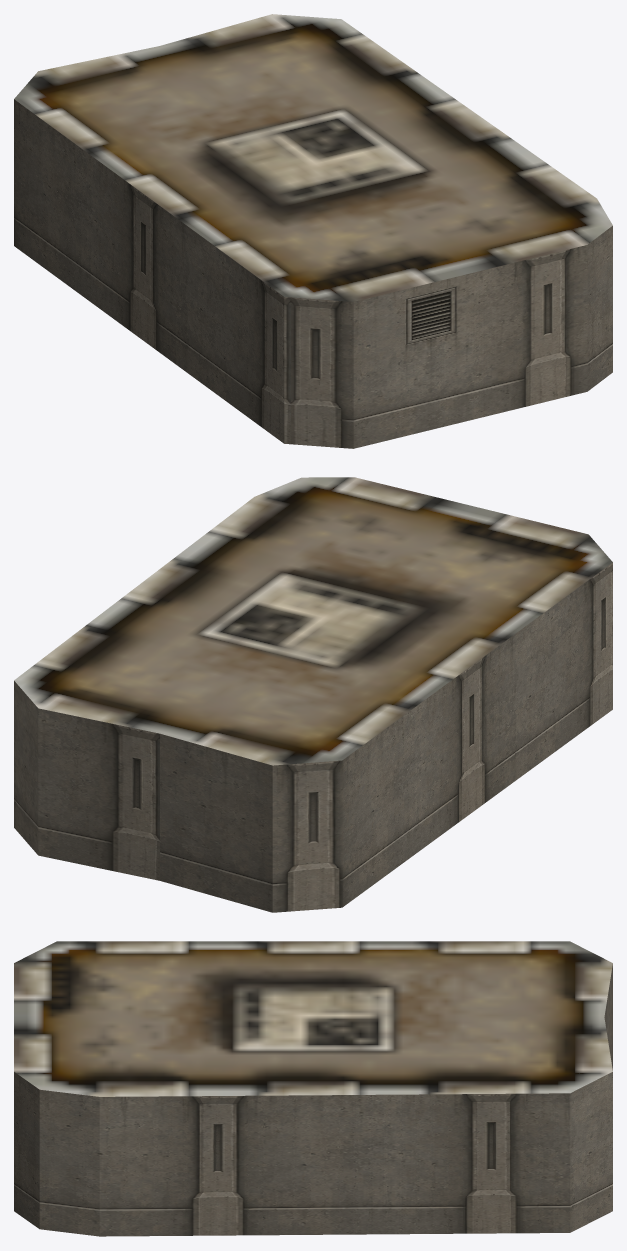
The model's file is building_single_hard_2.glb.
3 renders of one model, top to bottom at view 1: azimuth 30°, elevation 25°; view 2: azimuth 150°, elevation 25°; view 3: azimuth 270°, elevation 25°, orthographic. The views are drawn at different scales.
Visible parts, largest first — view 1: buildings/saxarba/building_single/building_single_hard_2; view 2: buildings/saxarba/building_single/building_single_hard_2; view 3: buildings/saxarba/building_single/building_single_hard_2.
Boxes of the visible parts, left/top/right/bottom form: buildings/saxarba/building_single/building_single_hard_2: left=14, top=14, right=612, bottom=448; buildings/saxarba/building_single/building_single_hard_2: left=14, top=477, right=612, bottom=912; buildings/saxarba/building_single/building_single_hard_2: left=14, top=941, right=612, bottom=1236.
Bounding box in the file's own units: 43 × 18 × 70.
